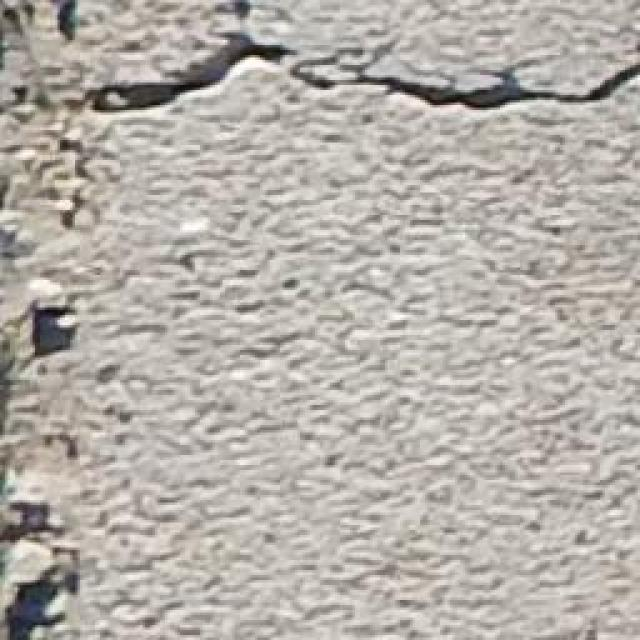concrete-crack: (73, 26, 640, 120), (2, 568, 80, 640), (35, 308, 70, 355), (58, 0, 78, 40)
